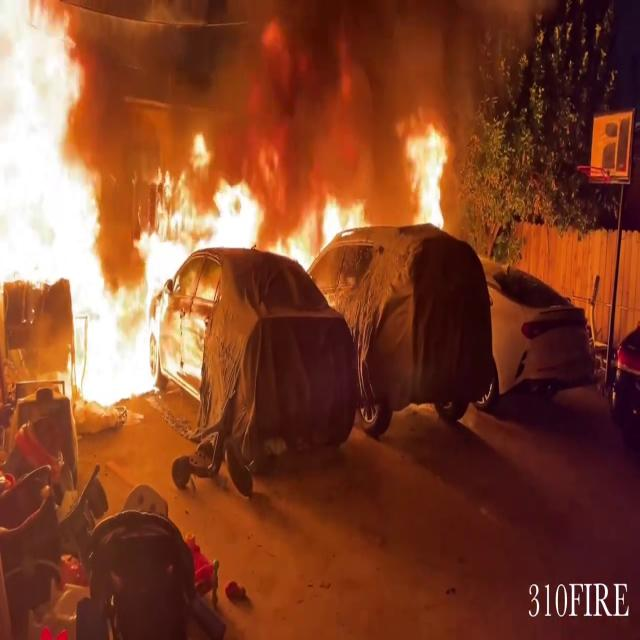Fire: (0, 1, 154, 393), (136, 114, 371, 280), (398, 114, 459, 237)
